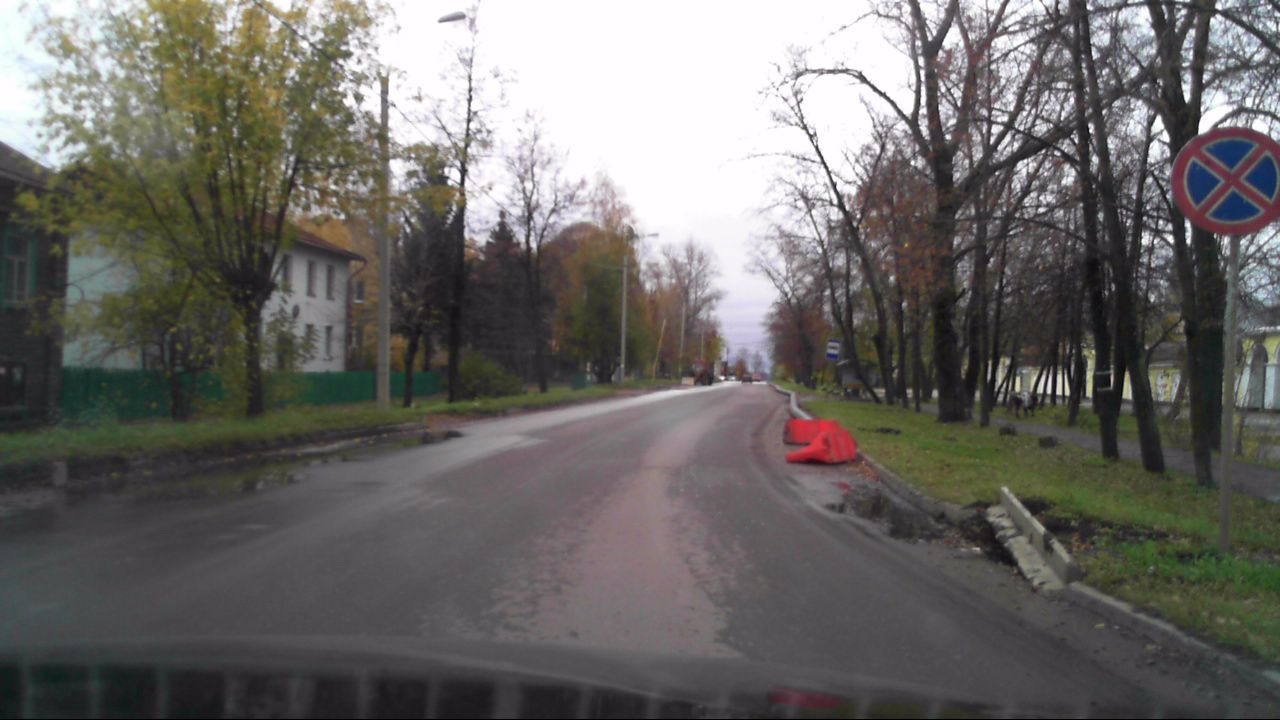No Parking: (1173, 128, 1279, 235)
